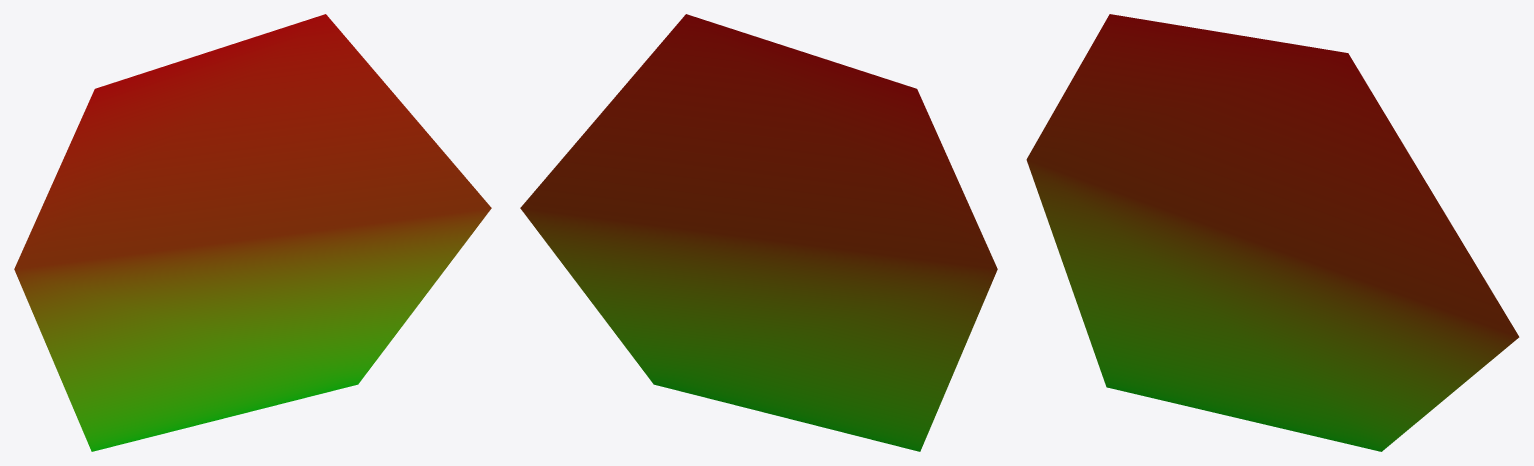
File: Cotton Grass_LOD4_Var4_wlykecdia.fbx
The picture shows the model from 3 angles, left to right: view 1: azimuth 30°, elevation 25°; view 2: azimuth 150°, elevation 25°; view 3: azimuth 330°, elevation 25°; orthographic projection. The views are drawn at different scales.
Parts seen in each view (by area): view 1: _af1u_Var4_LOD4; view 2: _af1u_Var4_LOD4; view 3: _af1u_Var4_LOD4.
Part boxes in pixels (<box>): _af1u_Var4_LOD4: <box>14,14,491,451</box>; _af1u_Var4_LOD4: <box>520,14,997,451</box>; _af1u_Var4_LOD4: <box>1026,14,1519,451</box>.
Bounding box in the file's own units: 35.8 × 27.28 × 2.5e-07.
